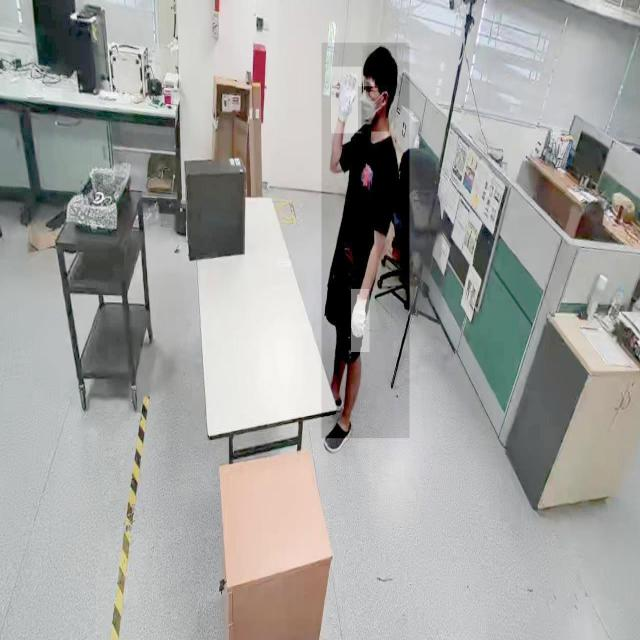face_mask: (358, 86, 389, 132)
hand_glove: (331, 67, 361, 133), (351, 289, 370, 353)
head_nohelmet: (362, 46, 398, 76)
person: (322, 43, 410, 439)
shoes: (322, 412, 356, 454)
